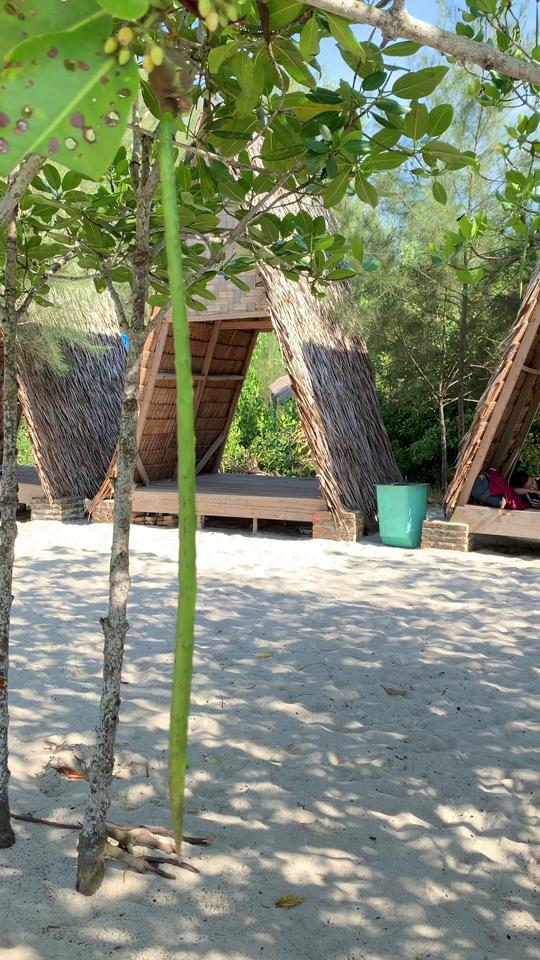mentah: (137, 48, 215, 870)
